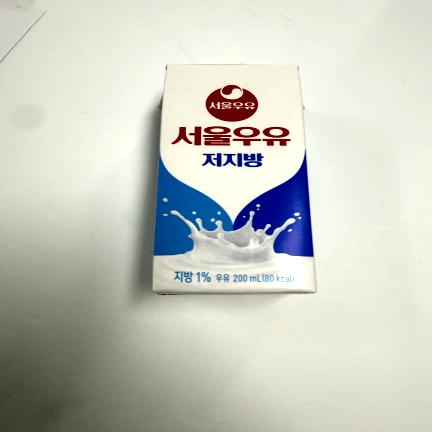milk_blue: (152, 65, 316, 294)
